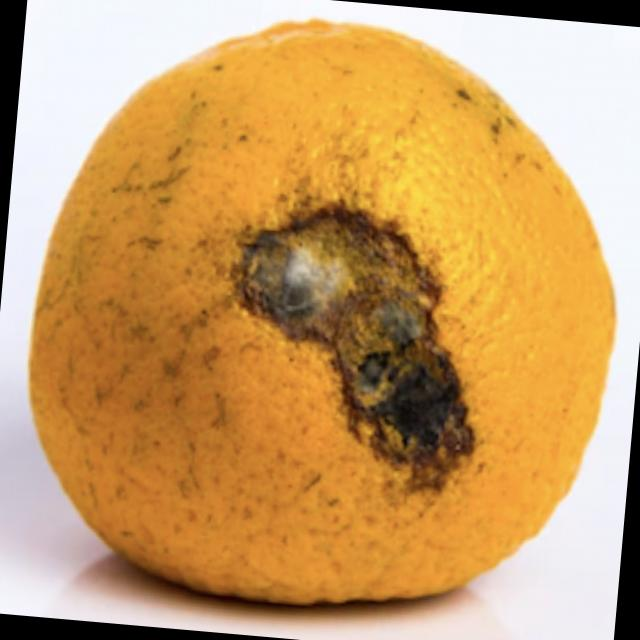rotten-orange: (8, 0, 640, 628)
